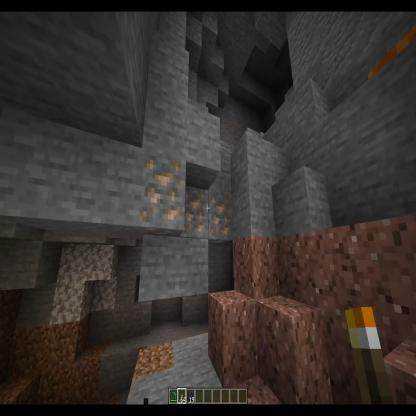iron ore: (141, 152, 185, 240), (181, 181, 210, 238), (208, 190, 232, 245)
